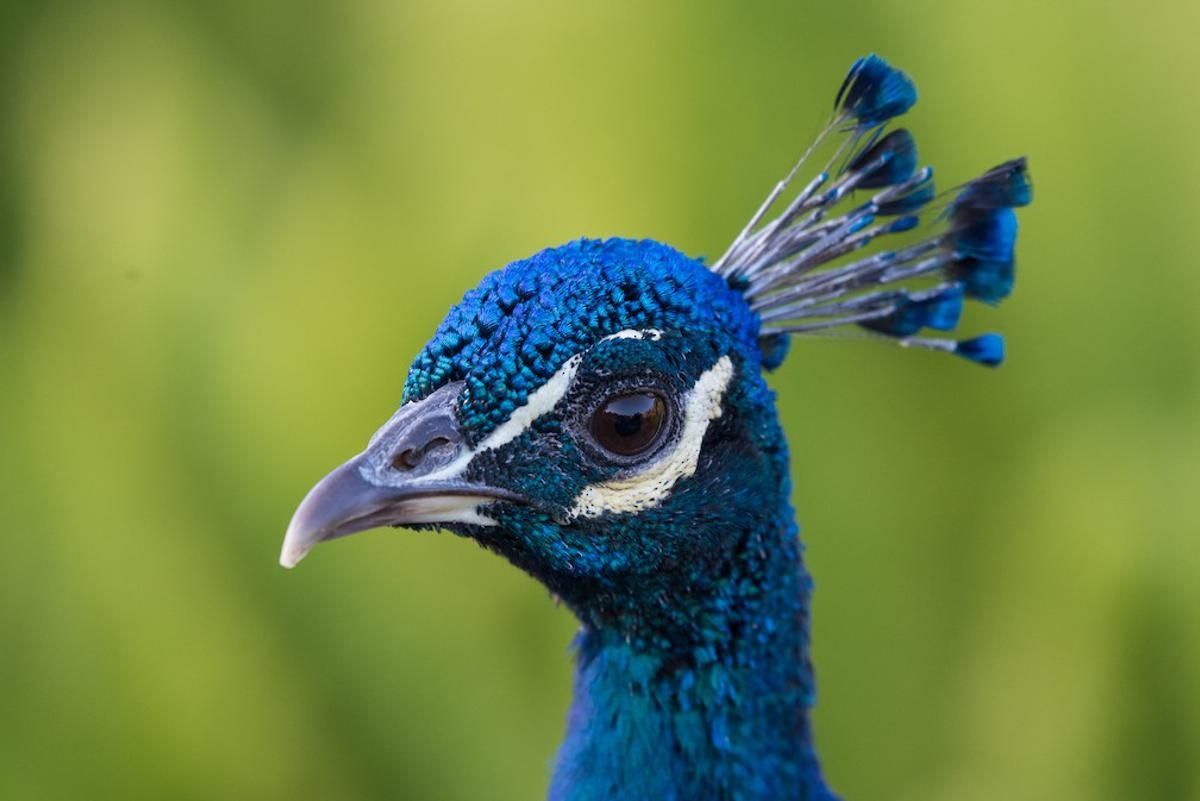peacock: (295, 98, 1039, 801)
